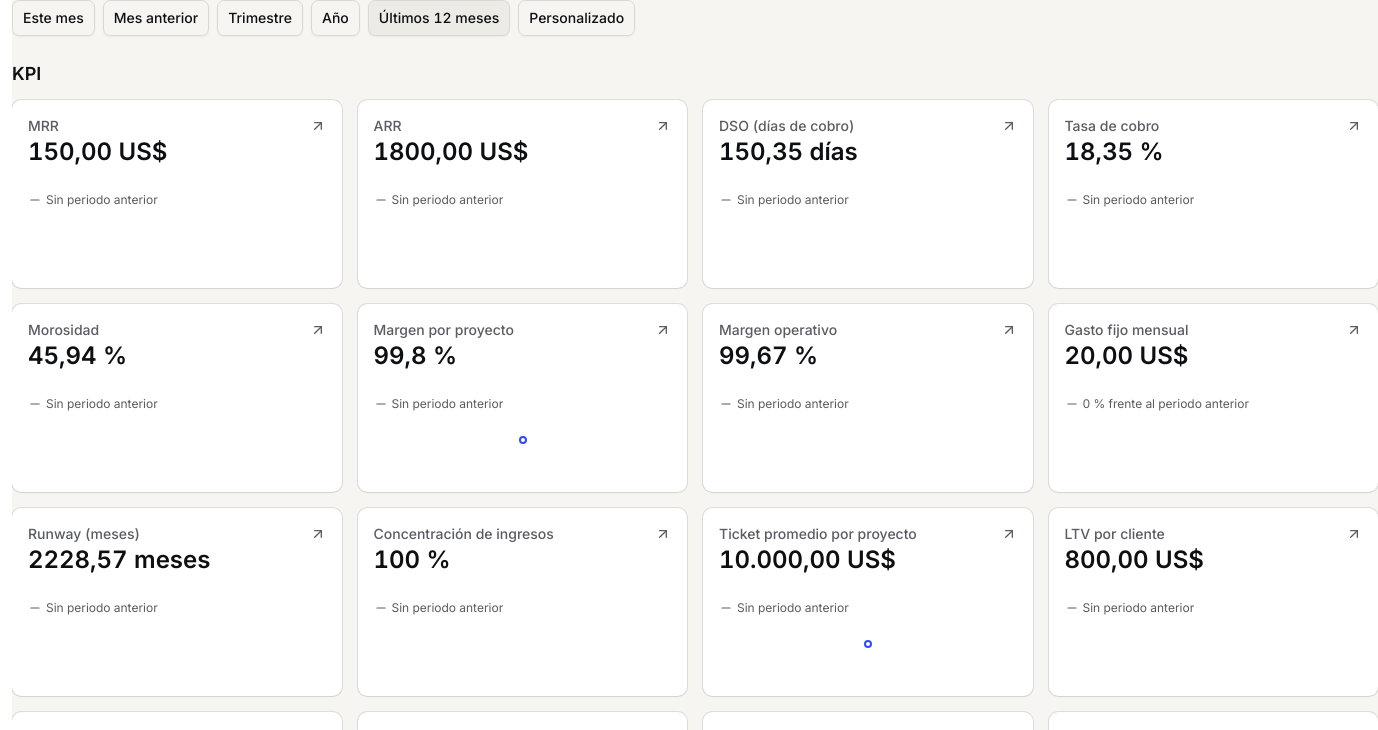
ReportsOverview › updates every card and sparkline when the date range changes (HU-31 CA2)
Click the radio button labelled "Mes anterior".
click(156, 18)  # box [103, 0, 209, 36]
(page scrolled)
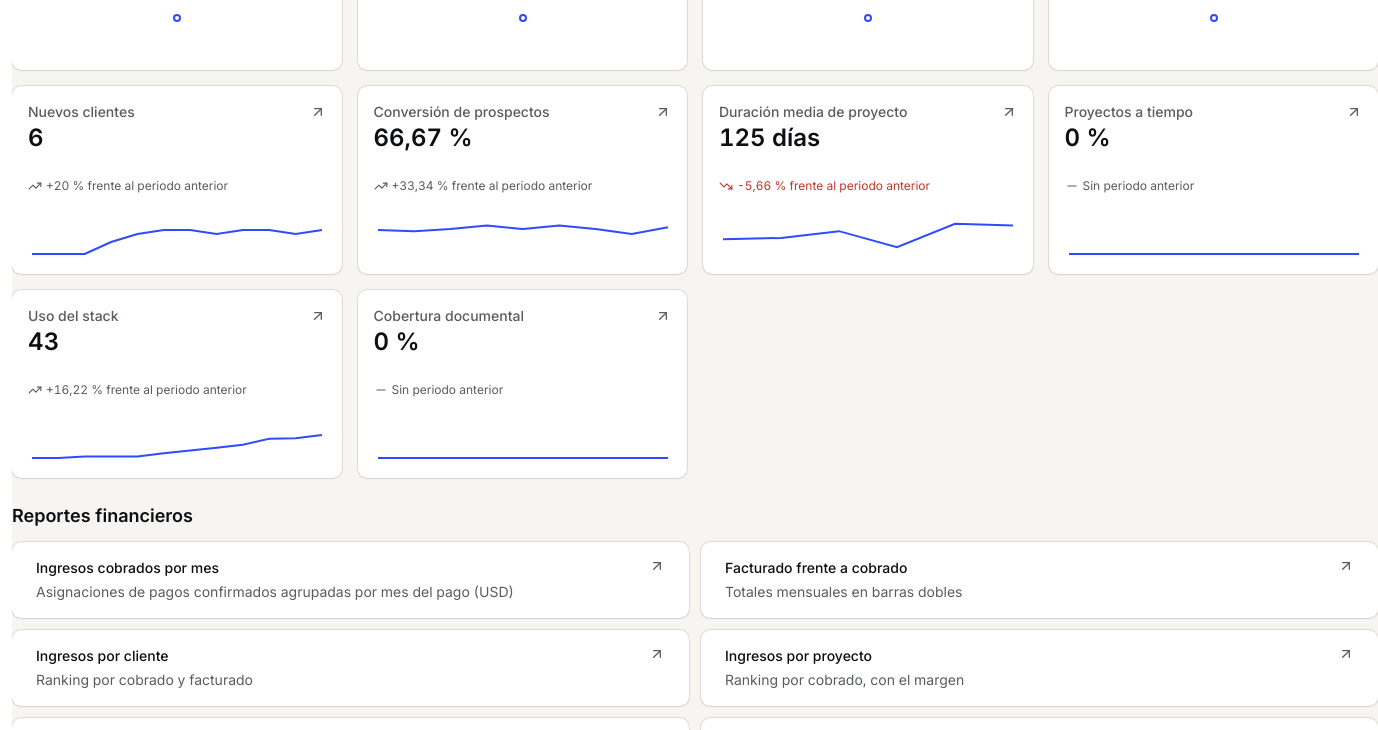
Expected: the list item "Nuevos clientes 6 +20 % frente al periodo anterior" is shown, [12, 86, 342, 274]
Expected: the list item that starts with "Conversión de prospectos" shows "frente al periodo anterior", [358, 102, 687, 258]
Expected: the list item that starts with "Duración media de proyecto" shows "frente al periodo anterior", [703, 102, 1032, 258]
